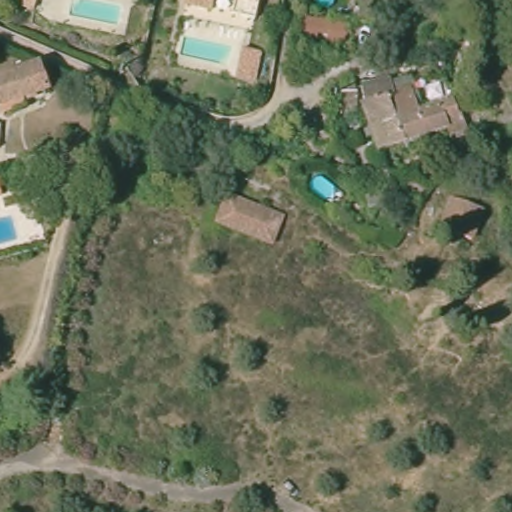pool: (179, 32, 240, 69), (66, 1, 130, 33), (307, 167, 348, 207), (1, 210, 27, 248)
